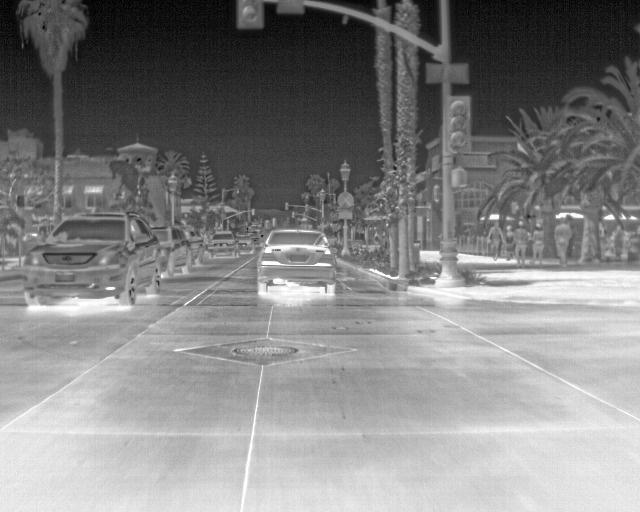bicycle: (16, 211, 163, 304), (255, 225, 337, 300), (149, 226, 195, 276), (209, 229, 242, 257), (239, 234, 257, 254)
empty: (550, 212, 573, 265), (486, 214, 507, 259), (511, 221, 528, 268), (529, 222, 543, 265)
